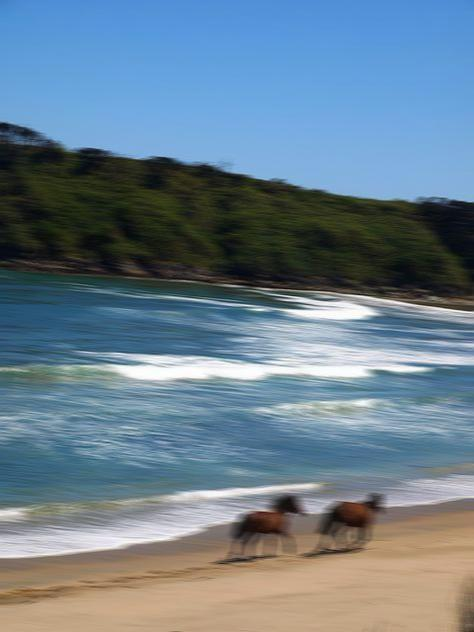horse: (228, 493, 306, 561), (314, 491, 384, 553)
